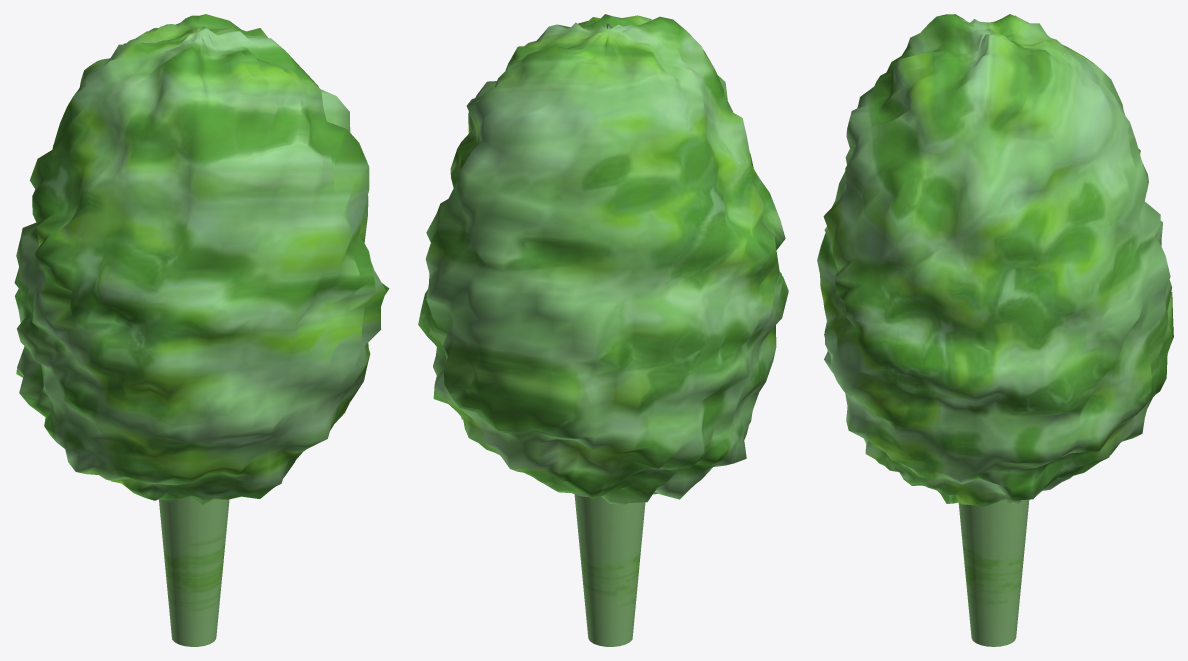
Rendered from Arbol1V.fbx.
The picture shows the model from 3 angles, left to right: view 1: azimuth 30°, elevation 25°; view 2: azimuth 150°, elevation 25°; view 3: azimuth 270°, elevation 25°; orthographic projection.
Parts seen in each view (by area): view 1: boom_015; view 2: boom_015; view 3: boom_015.
Part boxes in pixels (x1,y1,x2,y2): boom_015: (14, 14, 389, 646); boom_015: (418, 14, 788, 646); boom_015: (817, 14, 1173, 646).
Size of the model in its own units: 50.19 by 89.11 by 47.33.
1 material, 1 textured.
